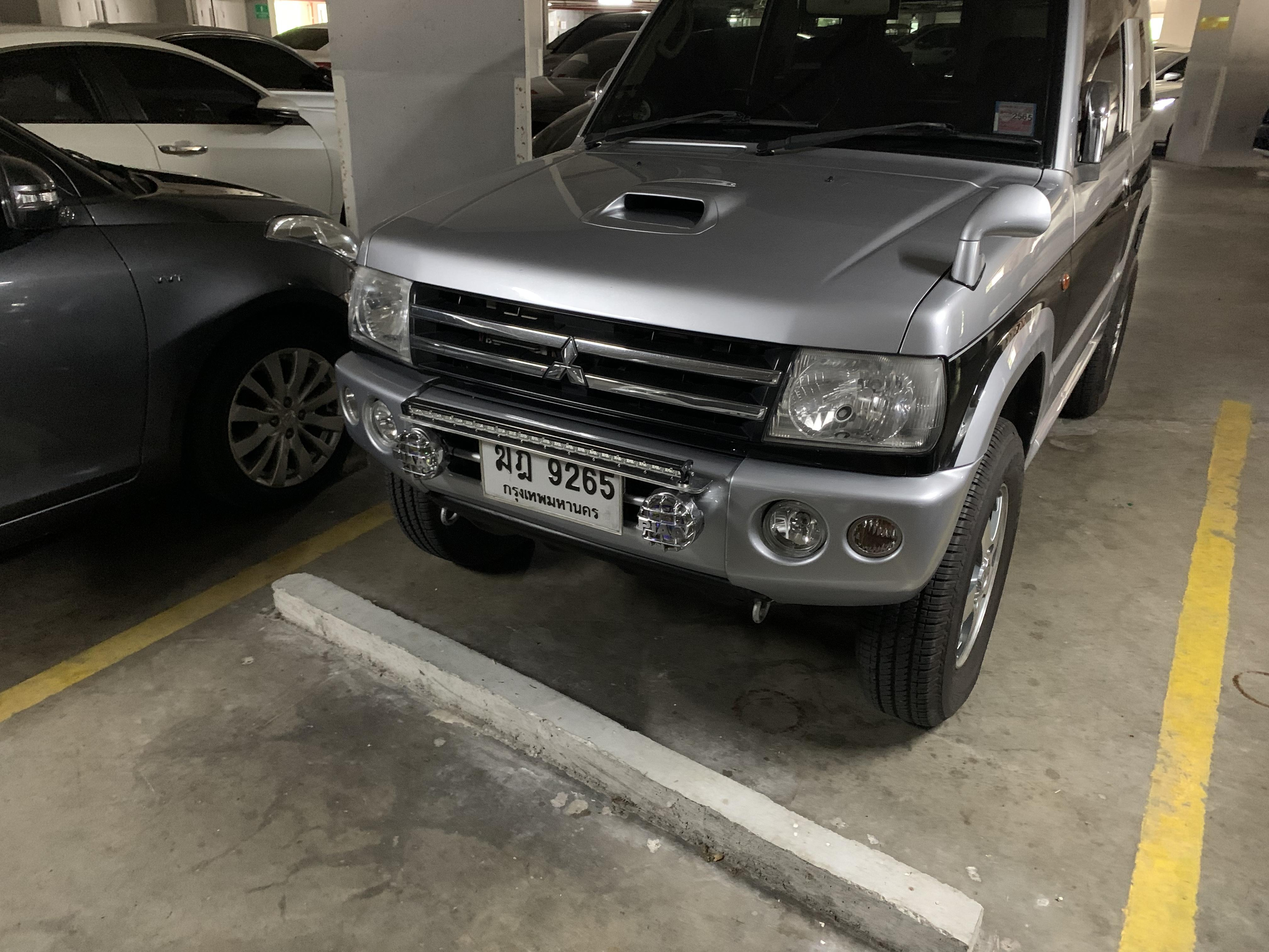license-plate: (477, 420, 629, 543)
